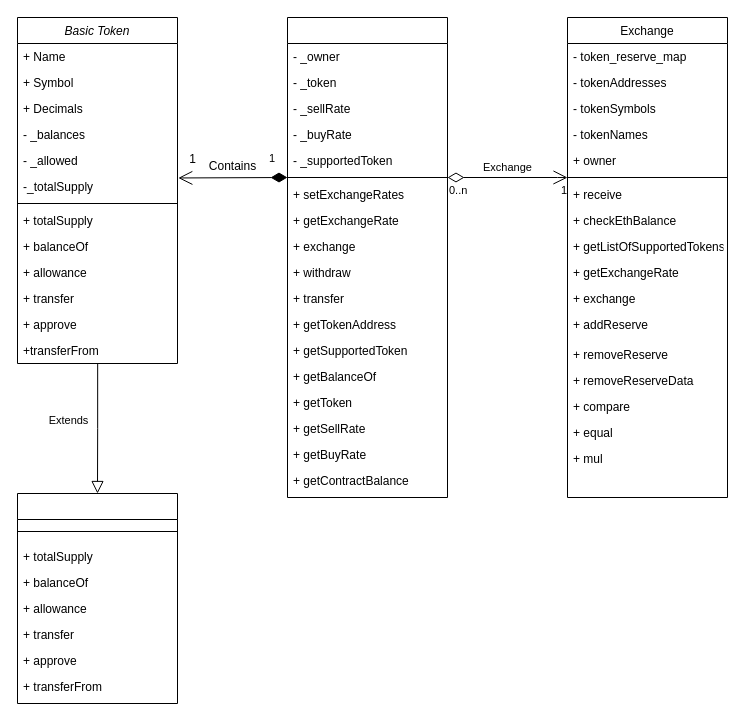
Some shapes in this 745 by 721 pixel diagram are drawn without their labels. Here are the shapes that lost their labels. From the top down, the box of each, then its label:
(286, 16, 448, 498): Reserve
(16, 492, 178, 704): IERC20
